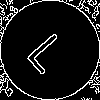L: (25, 25, 78, 76)
